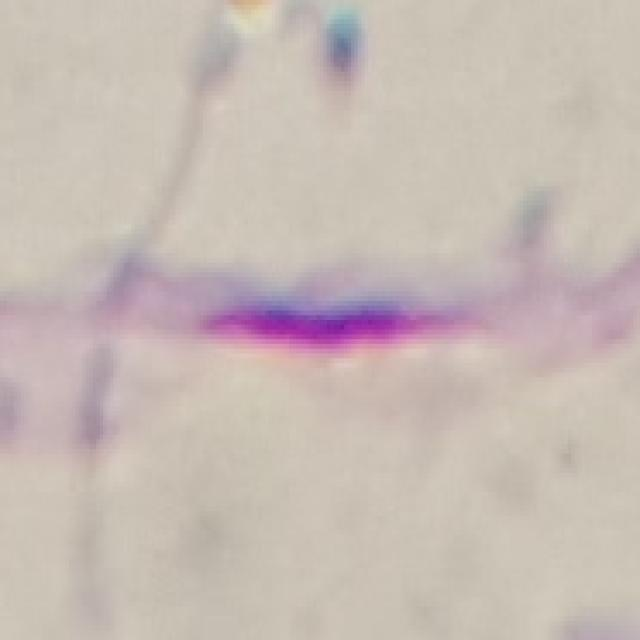non-sperm: (170, 282, 490, 365)
